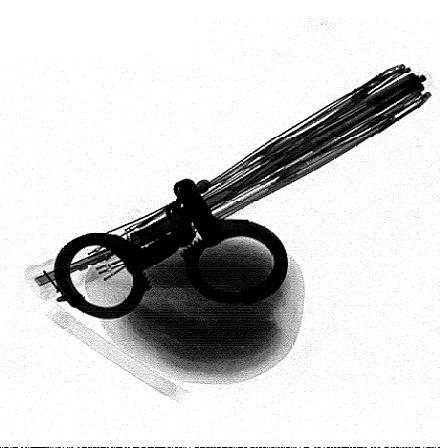HandCuffs: (50, 175, 292, 322)
